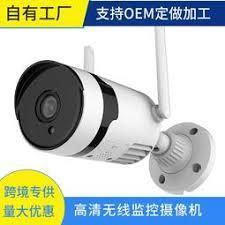tutu: (7, 55, 169, 173)
